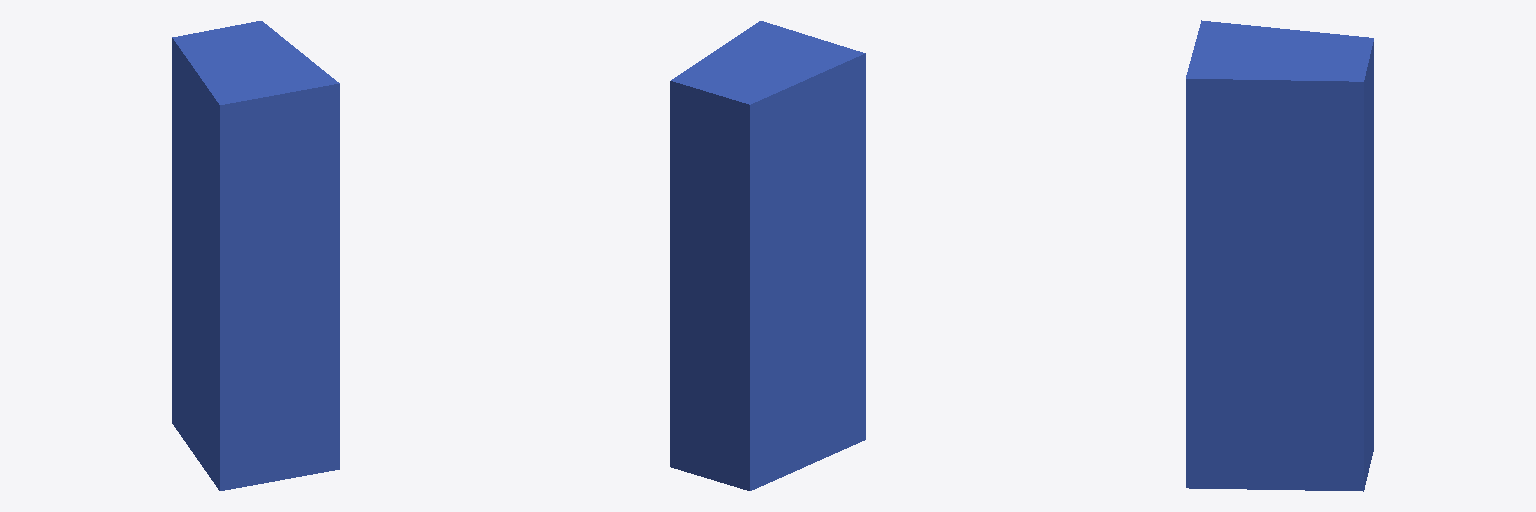
The robot description file, URDF, robot "quad_prism_7":
<?xml version="1.0" ?>
<robot name="quad_prism_7">
  <link name="base_link">
    <visual>
      <origin xyz="0 0 0" rpy="0 0 0"/>
      <geometry>
        <mesh filename="quad_prism_7.stl"/>
      </geometry>
      <material name="color">
        <color rgba="0.32419849457457894 0.45191913618662616 0.8024366267698944 1.0"/>
      </material>
    </visual>
    <collision>
      <origin xyz="0 0 0" rpy="0 0 0"/>
      <geometry>
        <mesh filename="quad_prism_7.stl"/>
      </geometry>
    </collision>
    <inertial>
      <origin xyz="0 0 0" rpy="0 0 0"/>
      <mass value="1.0"/>
      <inertia ixx="0.1" ixy="0" ixz="0" iyy="0.1" iyz="0" izz="0.1"/>
    </inertial>
  </link>
</robot>

--- Facts derived from the render (not from the file) ---
3 views of the same robot in one strip: view 1: azimuth 30°, elevation 25°; view 2: azimuth 150°, elevation 25°; view 3: azimuth 270°, elevation 25° (orthographic).
Model quad_prism_7 with 1 links and 0 joints (none), rooted at base_link, posed every joint at zero.
Links seen in each view (by area): view 1: base_link; view 2: base_link; view 3: base_link.
Boxes of the visible links, x1,y1,x2,y2 form: base_link: (172,21,339,490); base_link: (670,21,865,490); base_link: (1186,20,1373,491).
Size in the robot's own frame: 0.9623 by 1.25 by 3 metres.
Meshes: 1 distinct files referenced, 1 mesh visuals loaded (1 binary STL).